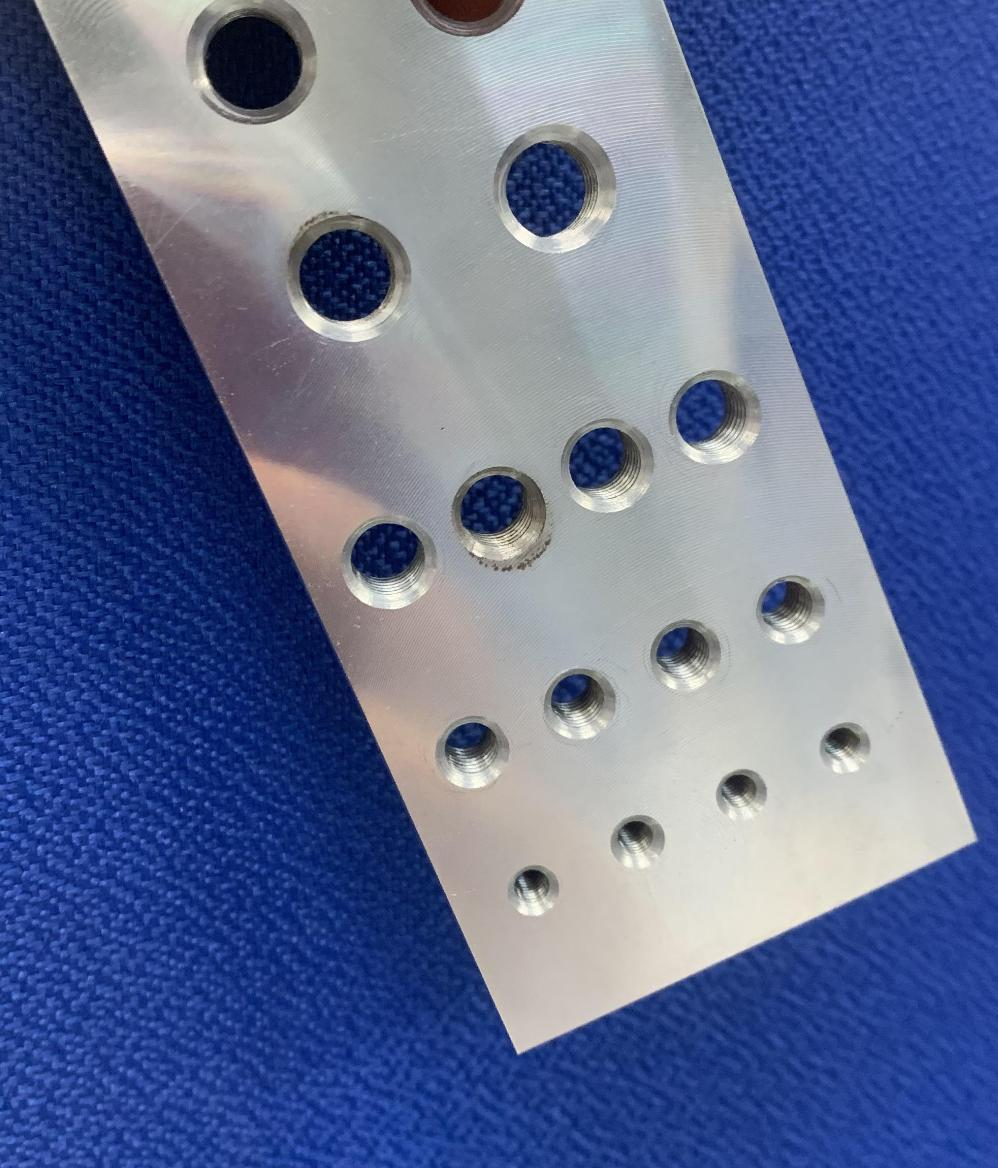hole: (475, 115, 631, 265), (275, 204, 425, 353), (179, 0, 337, 127), (657, 345, 775, 491), (554, 396, 666, 540), (328, 494, 446, 624), (439, 456, 551, 576), (640, 602, 738, 708), (528, 655, 628, 757), (429, 704, 521, 809), (743, 560, 837, 662), (402, 0, 538, 50), (809, 704, 886, 792), (701, 752, 779, 836), (607, 802, 676, 886), (504, 860, 560, 928)
